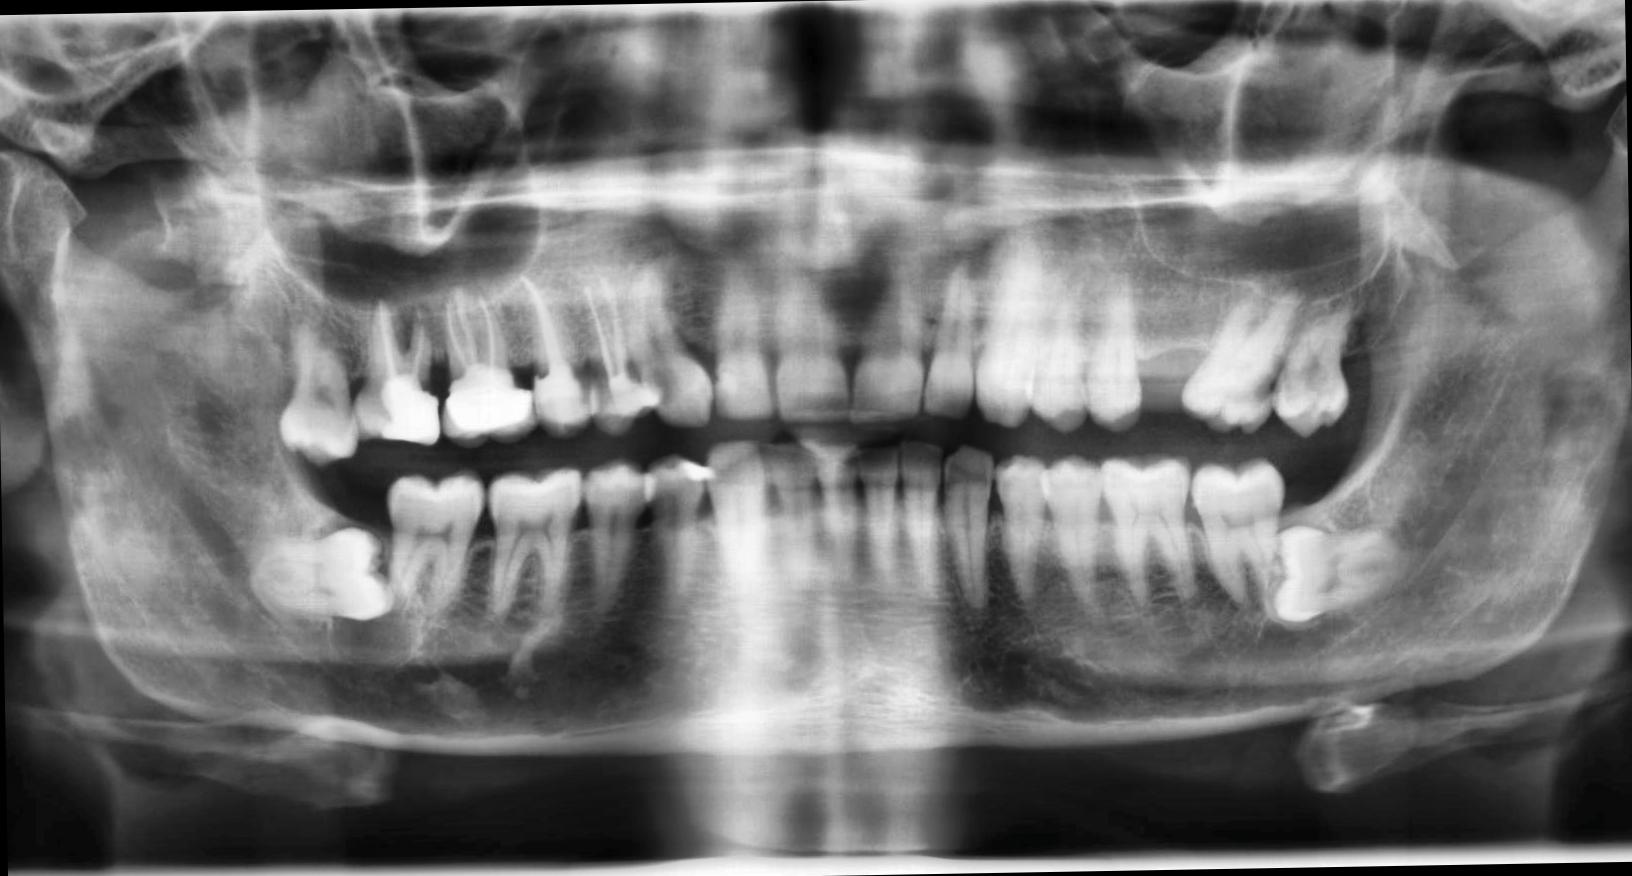dentigeroz: (326, 514, 417, 672)
